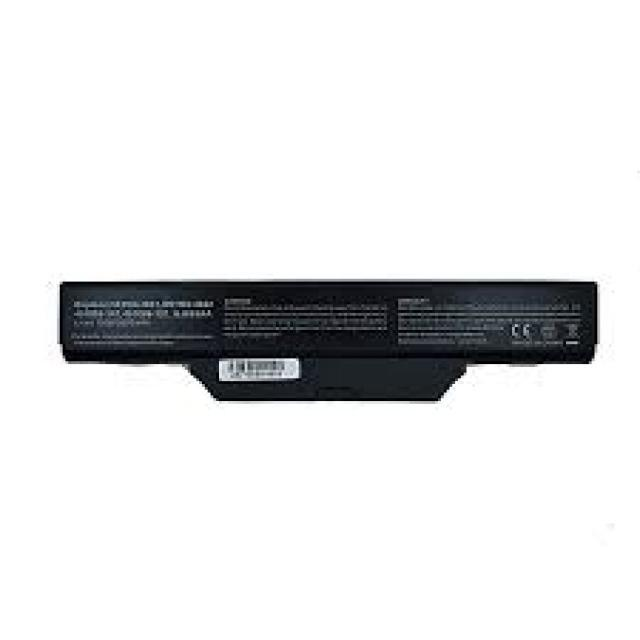battery: (55, 274, 612, 406)
